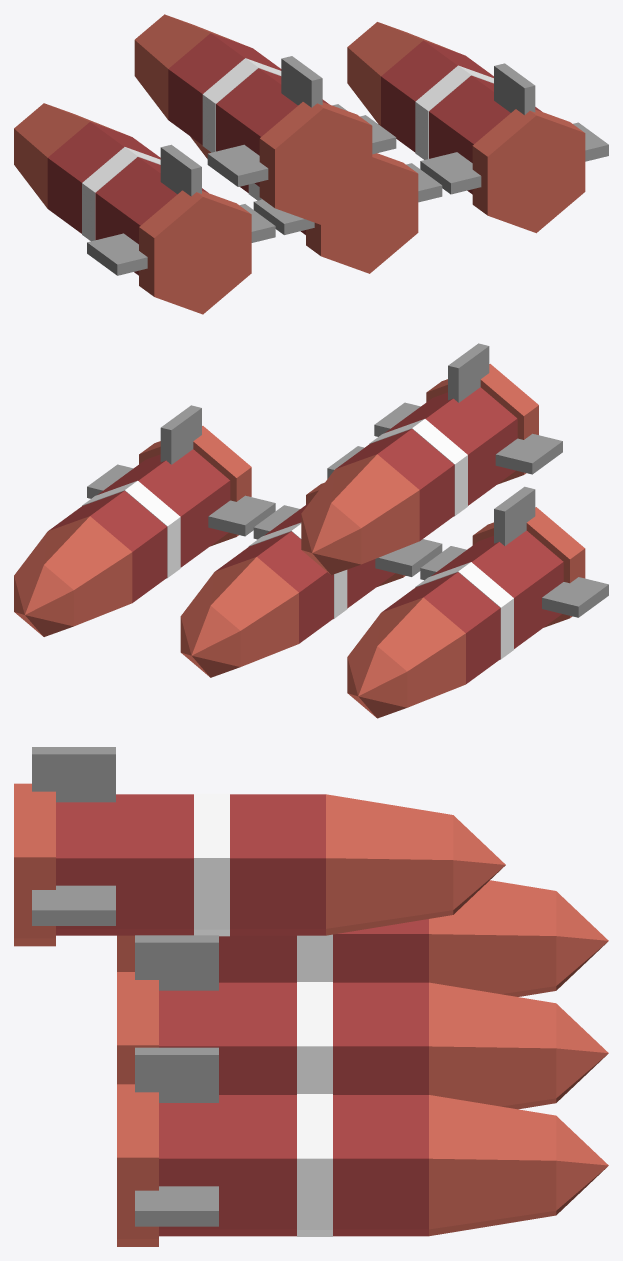
The model's file is ce_ammo2_minirocket_icp_b.obj.
3 views of the same model, one above another, from view 1: azimuth 30°, elevation 25°; view 2: azimuth 150°, elevation 25°; view 3: azimuth 270°, elevation 25° (orthographic). The views are drawn at different scales.
Visible parts, largest first — view 1: ce_ammo2_minirocket_icp_b_16, ce_ammo2_minirocket_icp_b_24, ce_ammo2_minirocket_icp_b_0, ce_ammo2_minirocket_icp_b_8, ce_ammo2_minirocket_icp_b_27, ce_ammo2_minirocket_icp_b_3, ce_ammo2_minirocket_icp_b_19, ce_ammo2_minirocket_icp_b_1, ce_ammo2_minirocket_icp_b_25, ce_ammo2_minirocket_icp_b_17, ce_ammo2_minirocket_icp_b_28, ce_ammo2_minirocket_icp_b_4 (+11 smaller); view 2: ce_ammo2_minirocket_icp_b_20, ce_ammo2_minirocket_icp_b_28, ce_ammo2_minirocket_icp_b_4, ce_ammo2_minirocket_icp_b_12, ce_ammo2_minirocket_icp_b_17, ce_ammo2_minirocket_icp_b_25, ce_ammo2_minirocket_icp_b_1, ce_ammo2_minirocket_icp_b_19, ce_ammo2_minirocket_icp_b_27, ce_ammo2_minirocket_icp_b_3, ce_ammo2_minirocket_icp_b_11, ce_ammo2_minirocket_icp_b_13 (+18 smaller); view 3: ce_ammo2_minirocket_icp_b_17, ce_ammo2_minirocket_icp_b_25, ce_ammo2_minirocket_icp_b_28, ce_ammo2_minirocket_icp_b_20, ce_ammo2_minirocket_icp_b_12, ce_ammo2_minirocket_icp_b_19, ce_ammo2_minirocket_icp_b_27, ce_ammo2_minirocket_icp_b_4, ce_ammo2_minirocket_icp_b_9, ce_ammo2_minirocket_icp_b_11, ce_ammo2_minirocket_icp_b_24, ce_ammo2_minirocket_icp_b_16 (+17 smaller).
Boxes of the visible parts, x1,y1,x2,y2 form: ce_ammo2_minirocket_icp_b_16: (472, 109, 585, 233); ce_ammo2_minirocket_icp_b_24: (259, 102, 372, 225); ce_ammo2_minirocket_icp_b_0: (139, 190, 251, 314); ce_ammo2_minirocket_icp_b_8: (306, 153, 418, 273); ce_ammo2_minirocket_icp_b_27: (168, 33, 281, 144); ce_ammo2_minirocket_icp_b_3: (47, 122, 160, 233); ce_ammo2_minirocket_icp_b_19: (381, 40, 493, 152); ce_ammo2_minirocket_icp_b_1: (95, 157, 208, 275); ce_ammo2_minirocket_icp_b_25: (216, 68, 329, 186); ce_ammo2_minirocket_icp_b_17: (429, 75, 541, 194); ce_ammo2_minirocket_icp_b_28: (134, 14, 248, 119); ce_ammo2_minirocket_icp_b_4: (14, 103, 127, 208); ce_ammo2_minirocket_icp_b_20: (14, 516, 132, 626); ce_ammo2_minirocket_icp_b_28: (301, 454, 419, 564); ce_ammo2_minirocket_icp_b_4: (348, 597, 465, 707); ce_ammo2_minirocket_icp_b_12: (181, 557, 298, 666); ce_ammo2_minirocket_icp_b_17: (98, 449, 230, 567); ce_ammo2_minirocket_icp_b_25: (385, 387, 517, 505); ce_ammo2_minirocket_icp_b_1: (431, 530, 563, 648); ce_ammo2_minirocket_icp_b_19: (48, 490, 167, 602); ce_ammo2_minirocket_icp_b_27: (336, 429, 454, 540); ce_ammo2_minirocket_icp_b_3: (382, 572, 500, 683); ce_ammo2_minirocket_icp_b_11: (215, 531, 333, 643); ce_ammo2_minirocket_icp_b_13: (180, 605, 240, 677); ce_ammo2_minirocket_icp_b_17: (159, 1095, 296, 1236); ce_ammo2_minirocket_icp_b_25: (56, 794, 193, 935); ce_ammo2_minirocket_icp_b_28: (326, 794, 453, 935); ce_ammo2_minirocket_icp_b_20: (429, 1095, 556, 1236); ce_ammo2_minirocket_icp_b_12: (429, 982, 556, 1109); ce_ammo2_minirocket_icp_b_19: (333, 1095, 428, 1236); ce_ammo2_minirocket_icp_b_27: (230, 794, 325, 935); ce_ammo2_minirocket_icp_b_4: (429, 880, 556, 996); ce_ammo2_minirocket_icp_b_9: (159, 982, 296, 1094); ce_ammo2_minirocket_icp_b_11: (333, 982, 428, 1094); ce_ammo2_minirocket_icp_b_24: (14, 783, 55, 946); ce_ammo2_minirocket_icp_b_16: (117, 1084, 158, 1246).
Bounding box in the file's own units: 0.914 × 0.4216 × 0.694.
